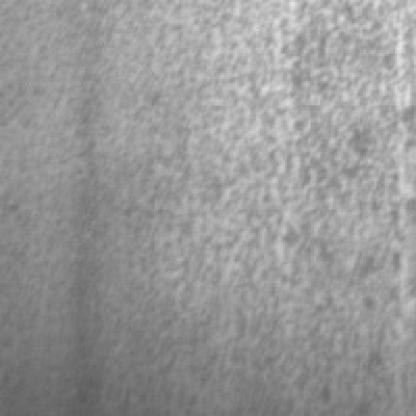pitted_surface: (131, 0, 412, 382)
